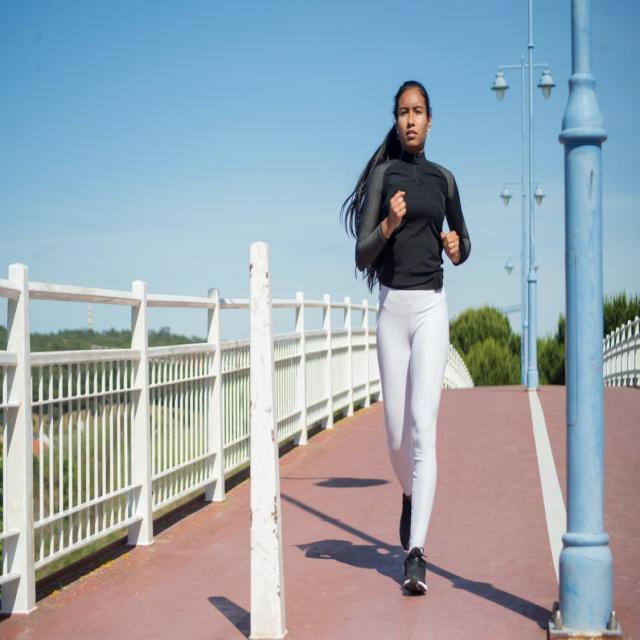running: (352, 78, 473, 597)
